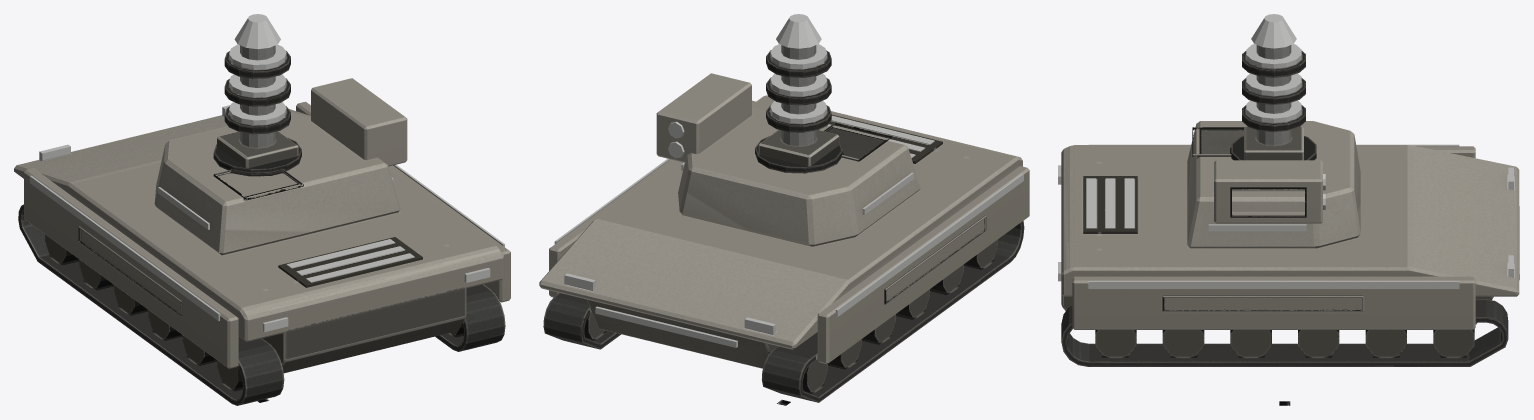
The model's file is ord_fulgur.fbx.
3 renders of one model, left to right at view 1: azimuth 30°, elevation 25°; view 2: azimuth 150°, elevation 25°; view 3: azimuth 270°, elevation 25°, orthographic.
Parts seen in each view (by area): view 1: base_bar, turret_bar, trackL_bar, barrel_bar, base_glow_running_bar, barrel_glow_weapon_bar, trackR_bar, turret_glow_running_bar; view 2: base_bar, turret_bar, trackL_bar, barrel_bar, base_glow_running_bar, barrel_glow_weapon_bar, trackR_bar, base_glow_head_bar, turret_glow_running_bar; view 3: base_bar, turret_bar, trackR_bar, base_glow_running_bar, barrel_bar, barrel_glow_weapon_bar, turret_glow_running_bar.
Boxes of the visible parts, x1,y1,x2,y2 form: base_bar: (14, 101, 510, 373); turret_bar: (154, 78, 407, 255); trackL_bar: (18, 204, 284, 405); barrel_bar: (217, 45, 298, 168); base_glow_running_bar: (29, 164, 504, 332); barrel_glow_weapon_bar: (229, 14, 286, 125); trackR_bar: (435, 284, 505, 351); turret_glow_running_bar: (158, 177, 393, 229); base_bar: (539, 95, 1029, 368); turret_bar: (656, 73, 920, 246); trackL_bar: (761, 221, 1024, 402); barrel_bar: (758, 45, 839, 166); base_glow_running_bar: (554, 115, 1023, 347); barrel_glow_weapon_bar: (770, 14, 827, 123); trackR_bar: (543, 293, 620, 349); base_glow_head_bar: (564, 273, 775, 334); turret_glow_running_bar: (681, 162, 913, 214); base_bar: (1061, 145, 1519, 329); turret_bar: (1187, 121, 1360, 248); trackR_bar: (1061, 299, 1508, 366); base_glow_running_bar: (1058, 144, 1519, 288); barrel_bar: (1242, 45, 1305, 160); barrel_glow_weapon_bar: (1246, 14, 1301, 123); turret_glow_running_bar: (1208, 224, 1306, 231).
Size of the model in its own units: 596 by 771 by 847.
Materials: 2 (2 with a texture image).
